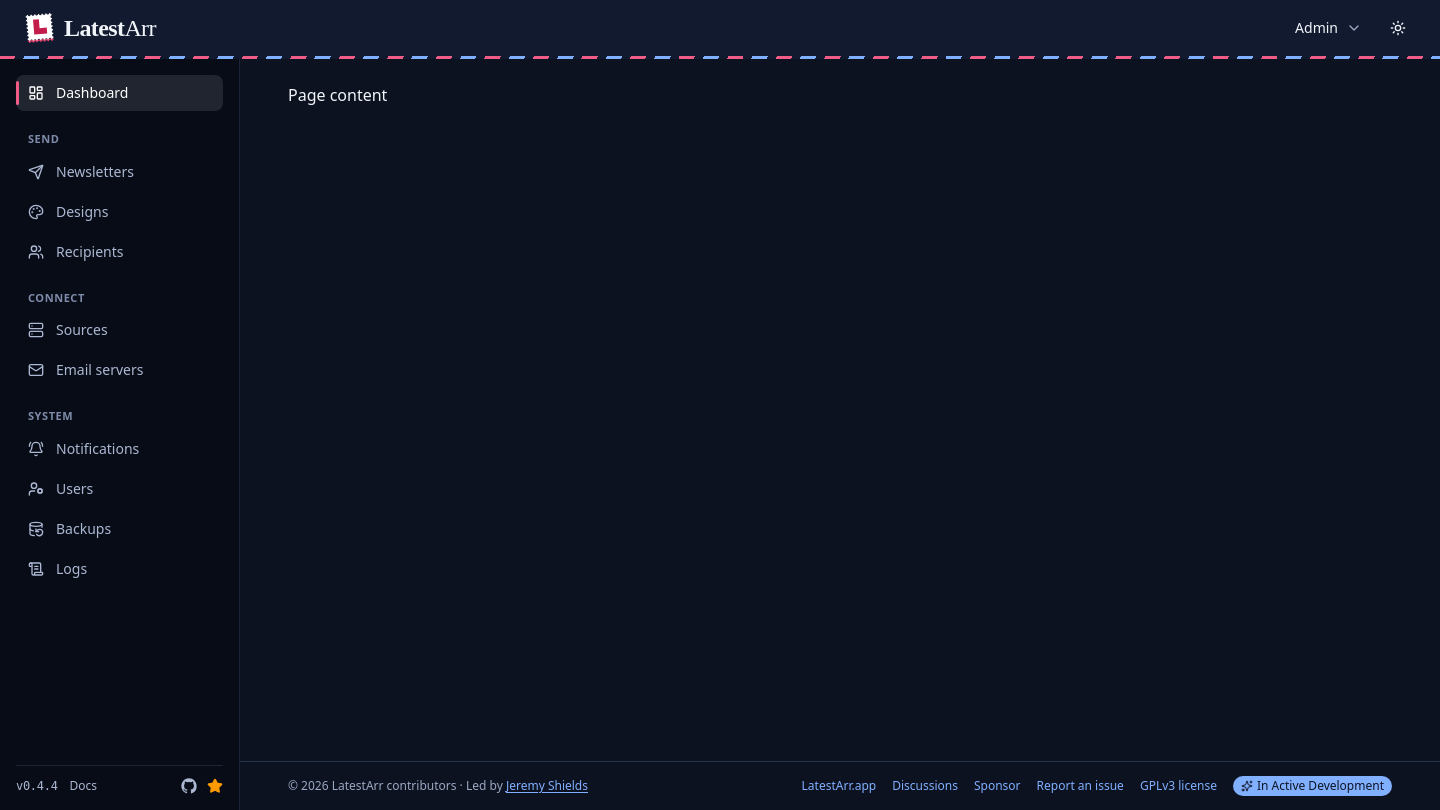
Test: AppShell › edits the display name through the Edit profile dialog
The image size is (1440, 810).
Check: the text "Admin" is shown, box x1=1295 y1=18 x2=1338 y2=38
Click the button with aria-label "Admin, account menu" at (1329, 28), box x1=1285 y1=10 x2=1372 y2=46
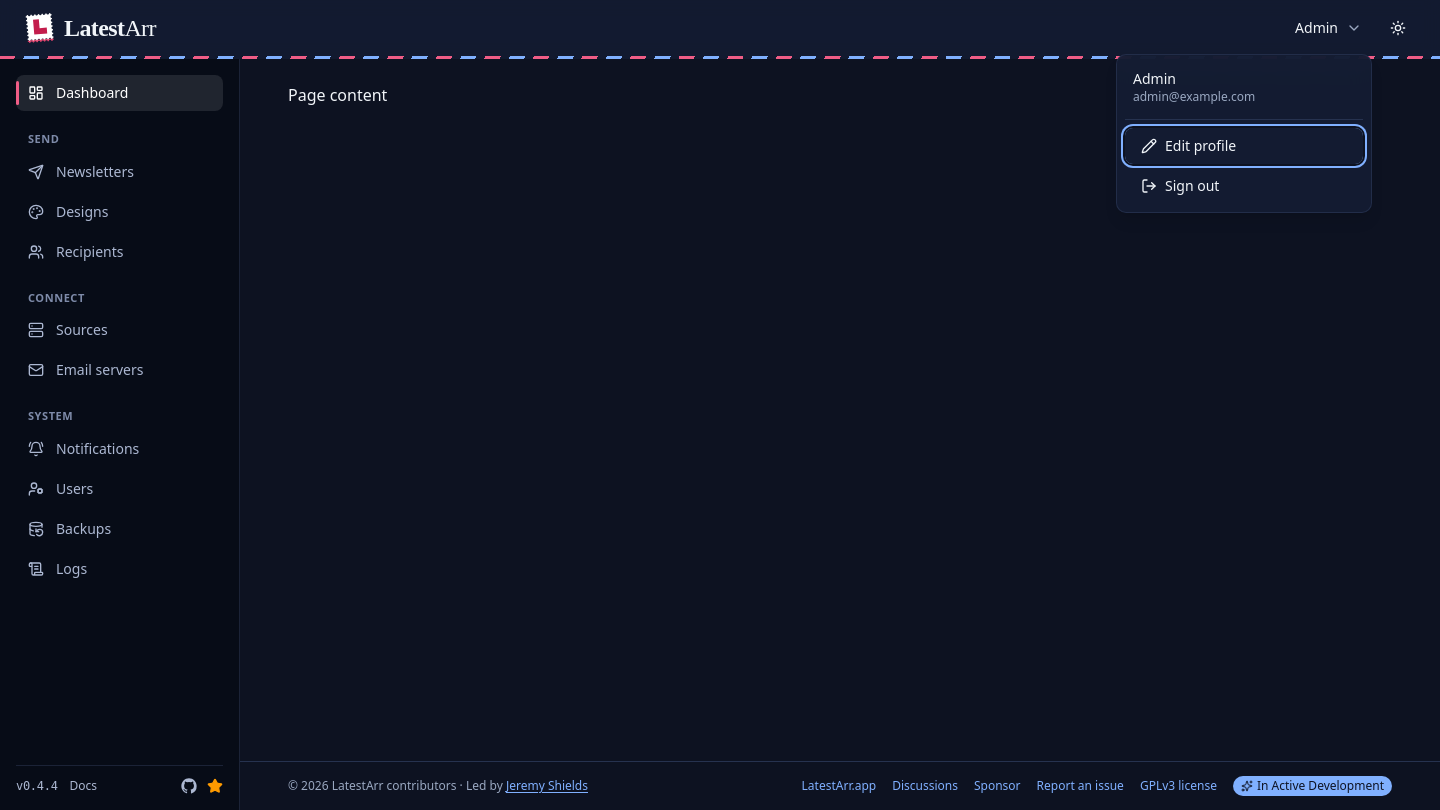
Click the button "Edit profile" at (1244, 146), box x1=1125 y1=128 x2=1363 y2=164
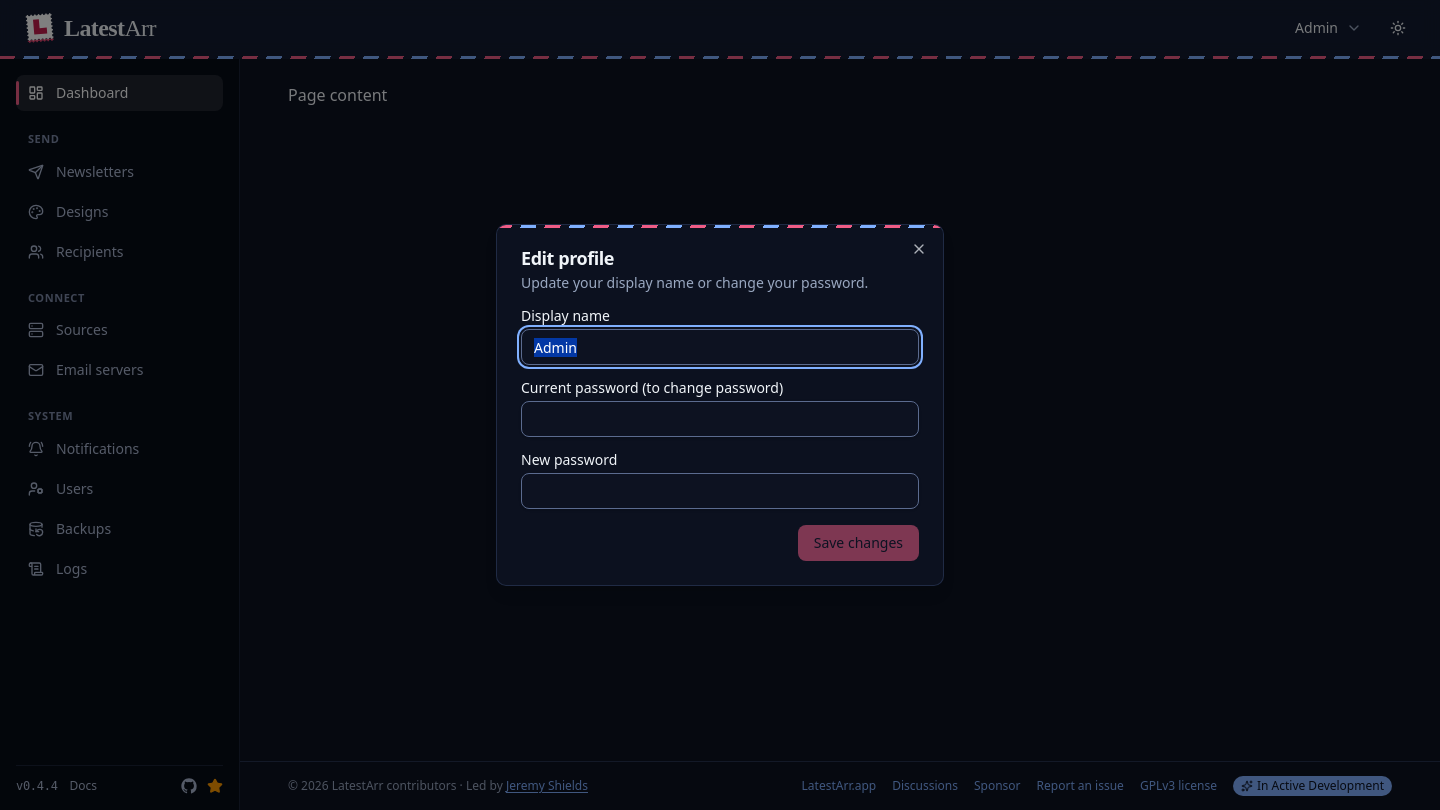
Check: the field labelled "Display name" holds "Admin"
Replace the text in the field labelled "Display name" with "New Name" at (720, 347), box x1=521 y1=329 x2=919 y2=365
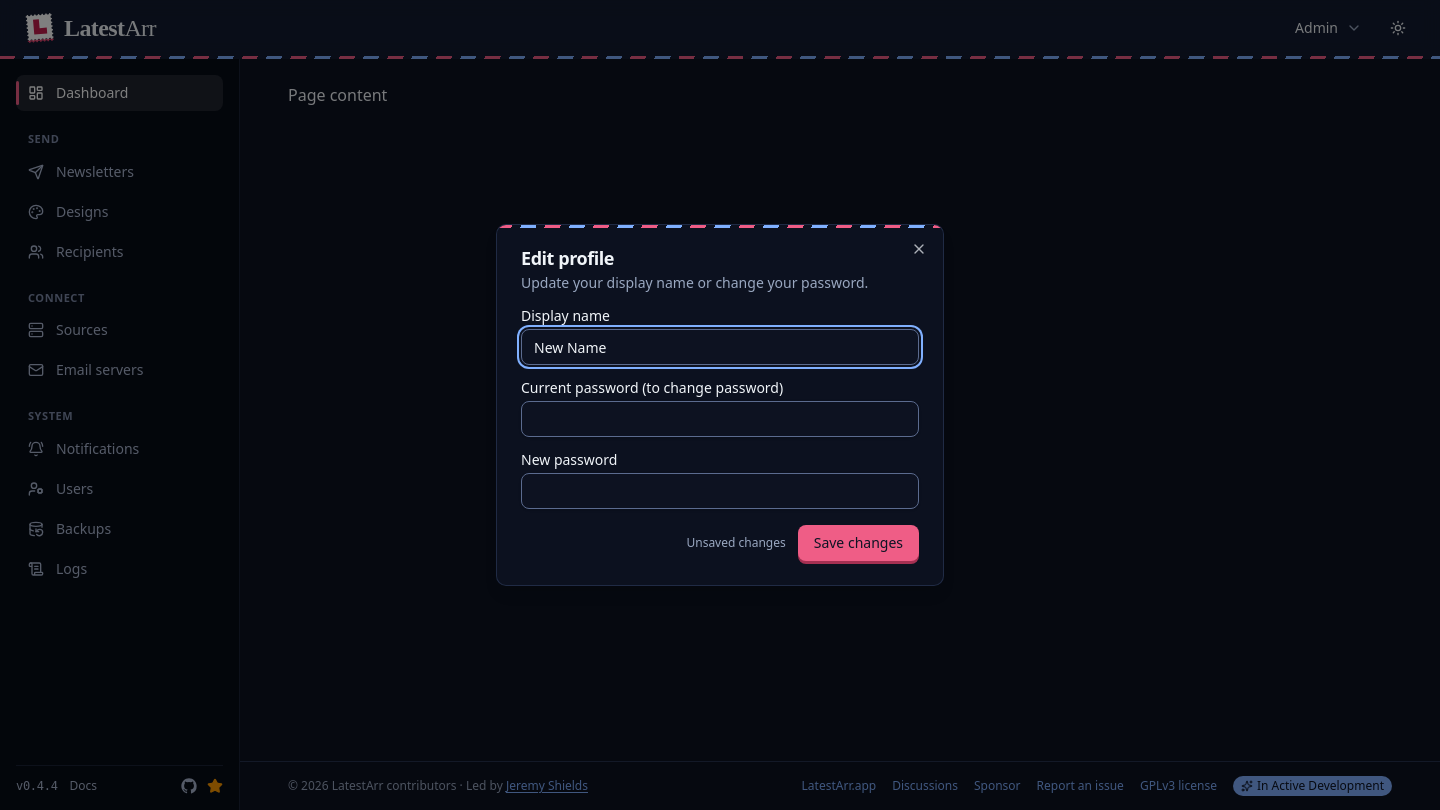
Click the button "Save changes" at (858, 543), box x1=798 y1=525 x2=919 y2=561
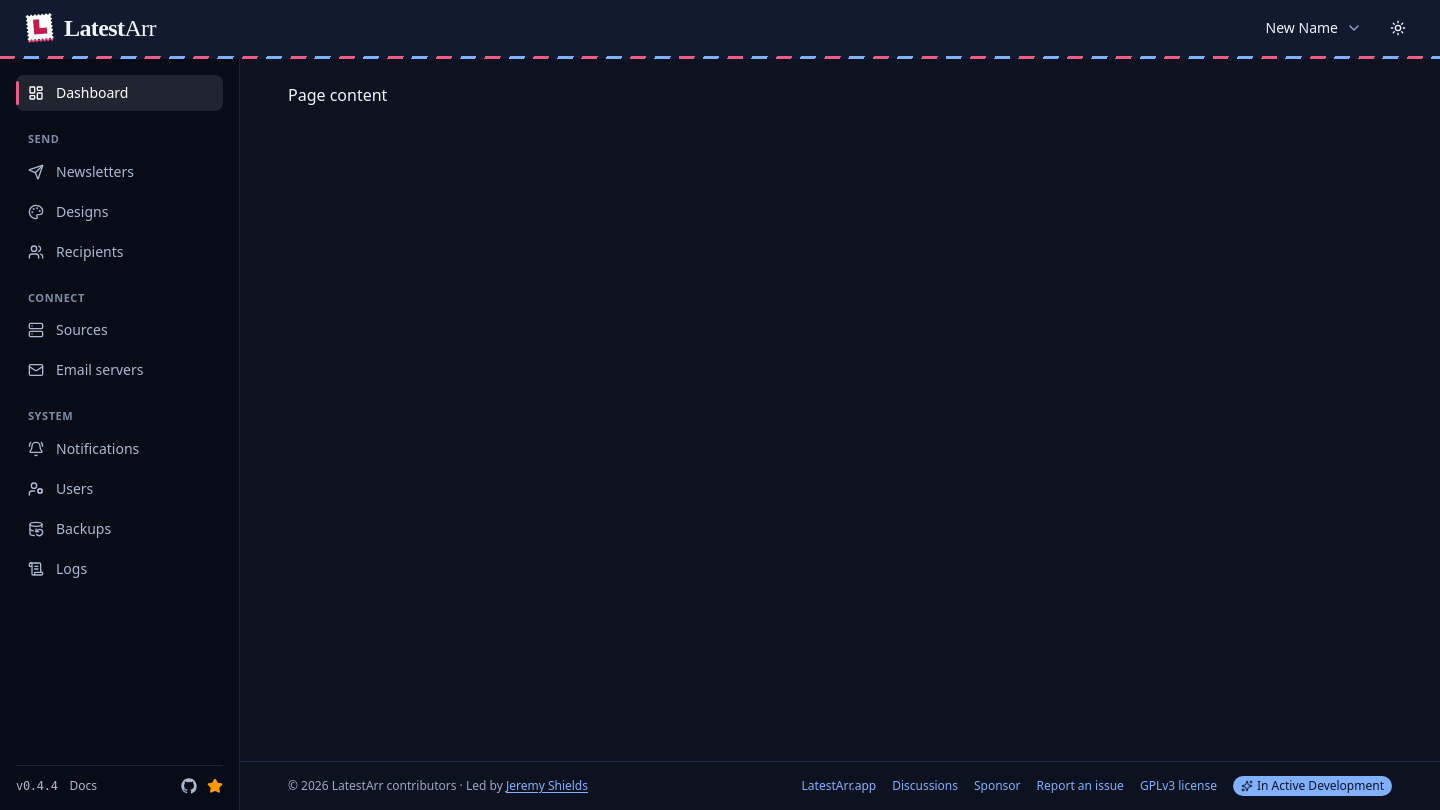
Check: the dialog is gone
Check: the button with aria-label "New Name, account menu" is shown, box x1=1256 y1=10 x2=1372 y2=46
